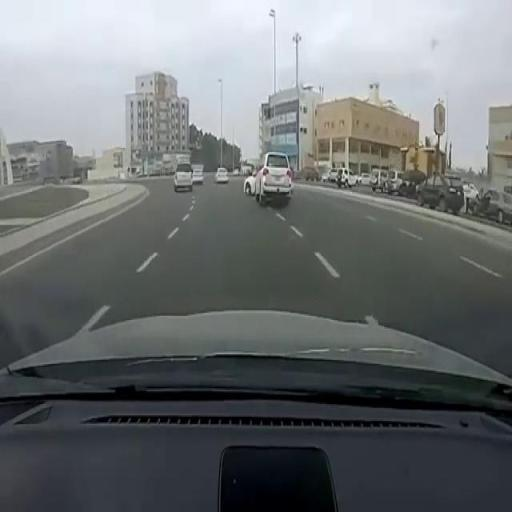小汽车: (413, 167, 466, 216), (254, 149, 294, 208), (170, 161, 196, 193), (212, 165, 232, 185)
